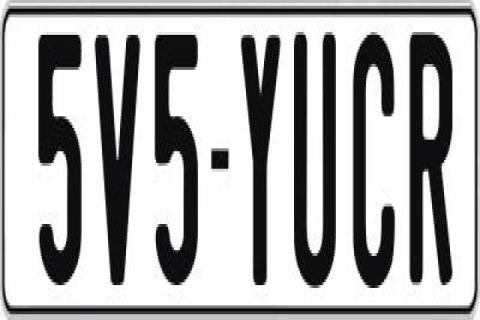0: (152, 27, 202, 286), (38, 26, 87, 288)
C: (350, 32, 394, 296)
R: (410, 26, 451, 291)
U: (293, 23, 341, 291)
V: (94, 32, 146, 285)
Y: (238, 35, 278, 288)
